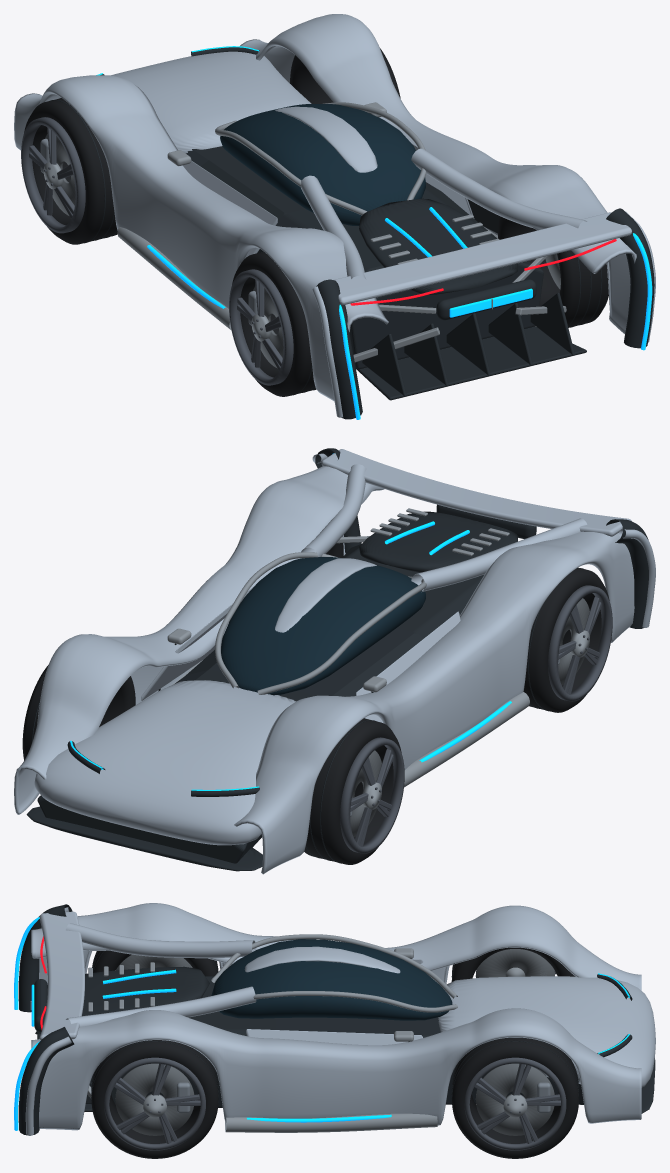
File: Cloudline_C03.glb
The picture shows the model from 3 angles, top to bottom: view 1: azimuth 30°, elevation 25°; view 2: azimuth 150°, elevation 25°; view 3: azimuth 270°, elevation 25°; orthographic projection. The views are drawn at different scales.
Parts seen in each view (by area): view 1: Continuous silver haunch -1, Continuous silver haunch 1, Inset canopy, Low silver nose, Low carbon chassis, Swept full-width rear bridge, Engine cover, Front tire -1, Recessed diffuser floor, Rear tire -1, Rear tire 1, Silver buttress 1 (+24 smaller); view 2: Continuous silver haunch -1, Low silver nose, Continuous silver haunch 1, Inset canopy, Low carbon chassis, Swept full-width rear bridge, Front tire -1, Engine cover, Rear tire -1, Front aero lip, Rear rim lip -1, Front rim lip -1 (+14 smaller); view 3: Continuous silver haunch 1, Continuous silver haunch -1, Inset canopy, Low silver nose, Front tire 1, Rear tire 1, Swept full-width rear bridge, Low carbon chassis, Engine cover, Silver buttress -1, Lower silver sill 1, Front brake rotor 1 (+22 smaller).
Part boxes in pixels (x1,y1,x2,y2): Continuous silver haunch -1: [14, 75, 388, 401]; Continuous silver haunch 1: [240, 14, 636, 333]; Inset canopy: [220, 104, 425, 225]; Low silver nose: [45, 51, 311, 153]; Low carbon chassis: [186, 146, 543, 369]; Swept full-width rear bridge: [334, 212, 631, 304]; Engine cover: [359, 198, 517, 294]; Front tire -1: [24, 98, 117, 244]; Recessed diffuser floor: [356, 326, 586, 400]; Rear tire -1: [232, 251, 315, 396]; Rear tire 1: [498, 216, 608, 327]; Silver buttress 1: [411, 148, 586, 229]; Continuous silver haunch -1: [234, 531, 634, 874]; Low silver nose: [34, 680, 295, 845]; Continuous silver haunch 1: [14, 466, 384, 814]; Inset canopy: [221, 557, 425, 695]; Low carbon chassis: [37, 544, 484, 863]; Swept full-width rear bridge: [321, 449, 631, 536]; Front tire -1: [304, 718, 401, 864]; Engine cover: [359, 511, 517, 572]; Rear tire -1: [523, 567, 609, 712]; Front aero lip: [26, 806, 262, 871]; Rear rim lip -1: [548, 585, 612, 701]; Front rim lip -1: [340, 737, 404, 853]; Continuous silver haunch 1: [31, 1008, 641, 1130]; Continuous silver haunch -1: [31, 903, 641, 990]; Inset canopy: [211, 939, 452, 1020]; Low silver nose: [438, 976, 655, 1087]; Front tire 1: [452, 1037, 578, 1158]; Rear tire 1: [91, 1040, 218, 1158]; Swept full-width rear bridge: [39, 911, 84, 1040]; Low carbon chassis: [111, 976, 583, 1107]; Engine cover: [82, 966, 209, 1016]; Silver buttress -1: [66, 923, 256, 958]; Lower silver sill 1: [225, 1113, 437, 1132]; Front brake rotor 1: [475, 1063, 554, 1135].
Size of the model in its own units: 2.65 by 1.28 by 5.18.
